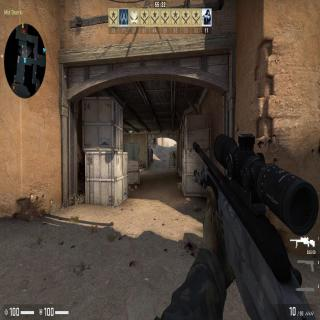T-Body: (172, 151, 175, 165), (150, 147, 153, 161), (153, 138, 156, 148)
T-Head: (173, 151, 174, 153), (151, 148, 152, 150)
